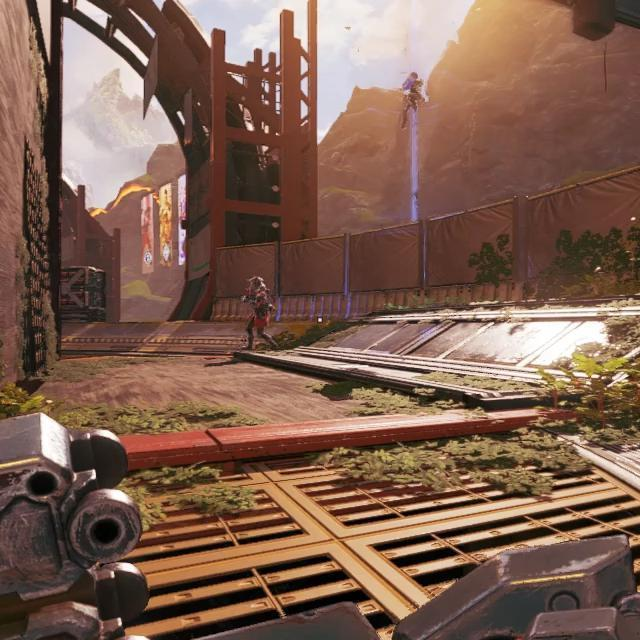avatar: (240, 275, 274, 352)
